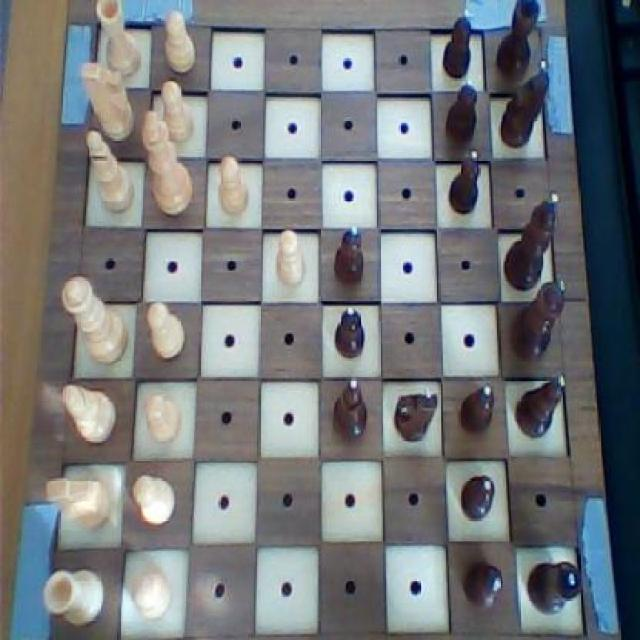bishop: (511, 369, 571, 442), (329, 372, 374, 450)
black-bishop: (500, 188, 565, 294)
black-king: (496, 56, 554, 156), (391, 382, 443, 448)
black-knight: (440, 72, 485, 150), (443, 146, 488, 219), (458, 554, 507, 618), (438, 8, 477, 83), (455, 377, 498, 441), (332, 222, 370, 293), (457, 471, 500, 523), (334, 303, 368, 362)
black-pawn: (508, 272, 570, 365)
black-queen: (491, 0, 542, 85), (525, 557, 587, 617)
black-rook: (83, 126, 139, 219), (60, 378, 120, 450)
white-bishop: (138, 108, 197, 220)
white-king: (77, 57, 138, 144), (43, 472, 114, 536)
white-knight: (131, 468, 180, 535), (126, 564, 176, 624), (145, 297, 189, 365), (142, 386, 186, 450), (160, 5, 199, 76), (156, 76, 194, 146), (272, 220, 308, 292), (214, 152, 251, 222)
white-pawn: (58, 273, 131, 372)
white-queen: (40, 560, 111, 631), (94, 0, 147, 81)
